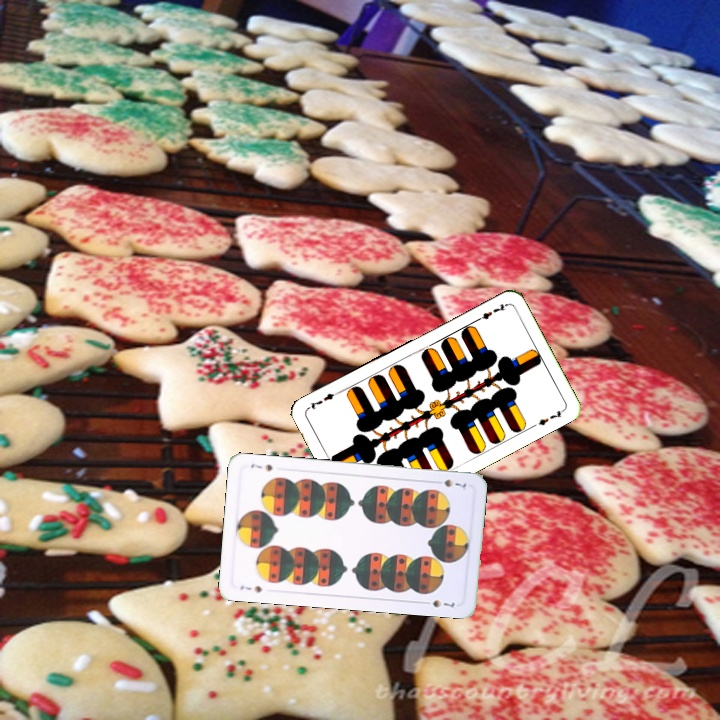E7: (471, 300, 509, 324)
S7: (430, 475, 469, 490), (236, 581, 264, 595)
